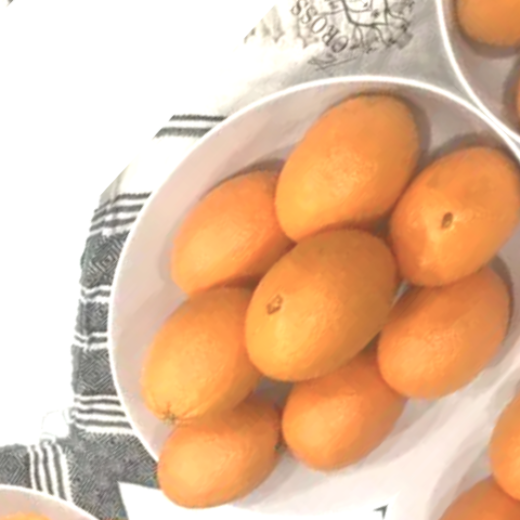orange: (208, 196, 427, 418), (239, 66, 455, 286), (119, 139, 333, 354), (347, 117, 520, 331), (345, 236, 520, 442), (126, 367, 305, 520)
